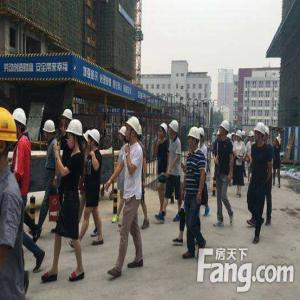white: (67, 119, 84, 150), (13, 108, 28, 136), (126, 117, 140, 143), (43, 119, 57, 142), (89, 128, 102, 150), (189, 127, 201, 150), (255, 122, 267, 143), (220, 121, 231, 140), (169, 121, 180, 138), (62, 110, 73, 127), (160, 122, 168, 139), (119, 127, 127, 142), (250, 130, 255, 142), (238, 131, 243, 142)
yellow: (2, 107, 19, 168)
